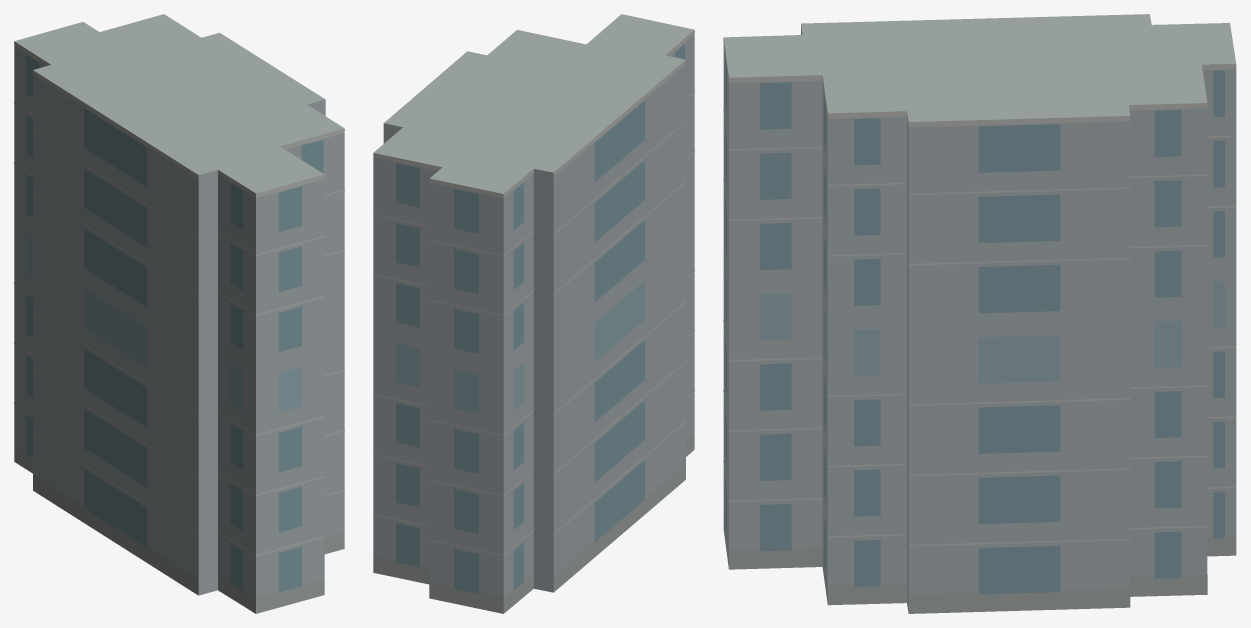
The model's file is survey-upis-33016702.glb.
3 renders of one model, left to right at view 1: azimuth 30°, elevation 25°; view 2: azimuth 150°, elevation 25°; view 3: azimuth 270°, elevation 25°, orthographic. The views are drawn at different scales.
Visible parts, largest first — view 1: survey-upis-33016702.tmp; view 2: survey-upis-33016702.tmp; view 3: survey-upis-33016702.tmp.
Boxes of the visible parts, x1,y1,x2,y2 form: survey-upis-33016702.tmp: (14, 14, 344, 613); survey-upis-33016702.tmp: (373, 14, 694, 613); survey-upis-33016702.tmp: (723, 14, 1236, 613).
Bounding box in the file's own units: 10.44 × 22.1 × 20.9.
